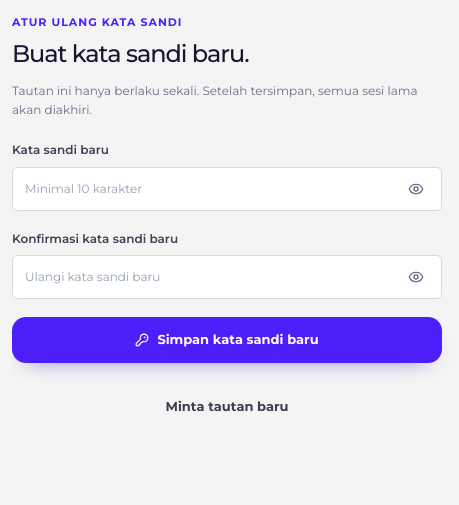
Test: halaman atur ulang kata sandi › menampilkan pesan backend saat tautan sudah kedaluwarsa atau terpakai
This screenshot has width=459, height=505.
Type "N3w-strong-password!" into the password field labelled "Kata sandi baru".
click(227, 189); type("N3w-strong-password!")  # box [12, 167, 442, 211]
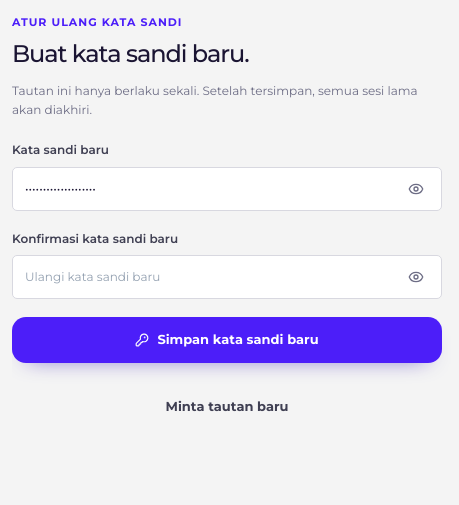
Type "N3w-strong-password!" into the password field labelled "Konfirmasi kata sandi baru".
click(227, 277); type("N3w-strong-password!")  # box [12, 255, 442, 299]
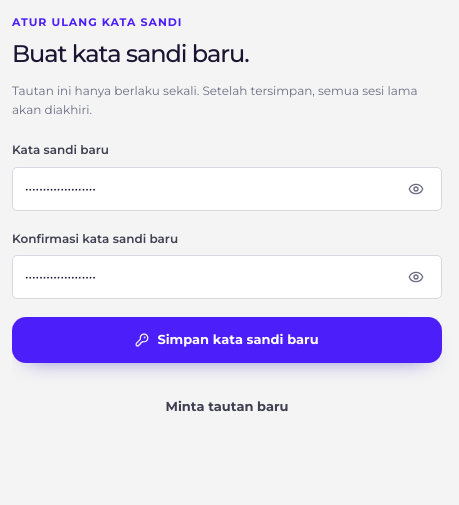
Click the button "Simpan kata sandi baru".
click(227, 340)  # box [12, 317, 442, 363]
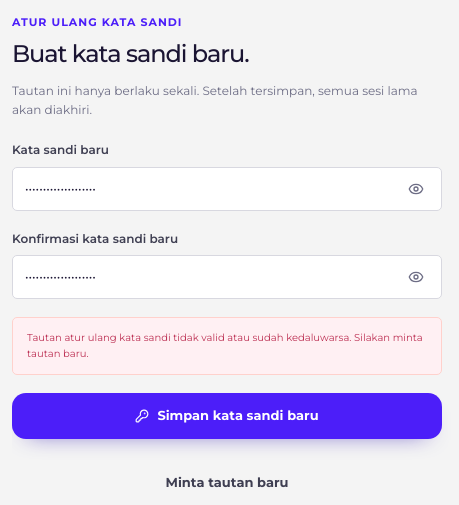
Check: the message shows "tidak valid atau sudah kedaluwarsa", box [27, 331, 423, 360]
